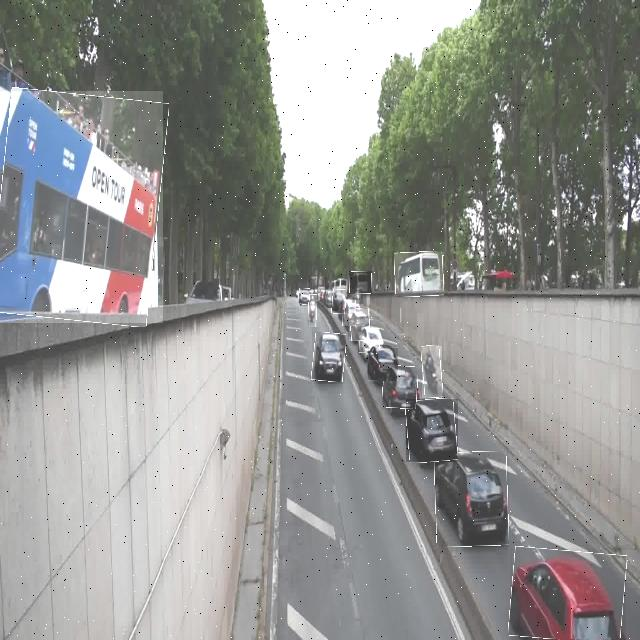Bus: (0, 91, 163, 323), (394, 252, 444, 296), (349, 271, 372, 294)
Car: (510, 548, 626, 640), (435, 451, 509, 547), (406, 399, 458, 462), (312, 332, 345, 382), (382, 366, 418, 409), (368, 347, 398, 381), (349, 309, 370, 341), (360, 328, 380, 353), (342, 300, 356, 326), (331, 290, 346, 314), (299, 289, 313, 305)
Motorcycle: (422, 346, 442, 398), (309, 294, 317, 327)
